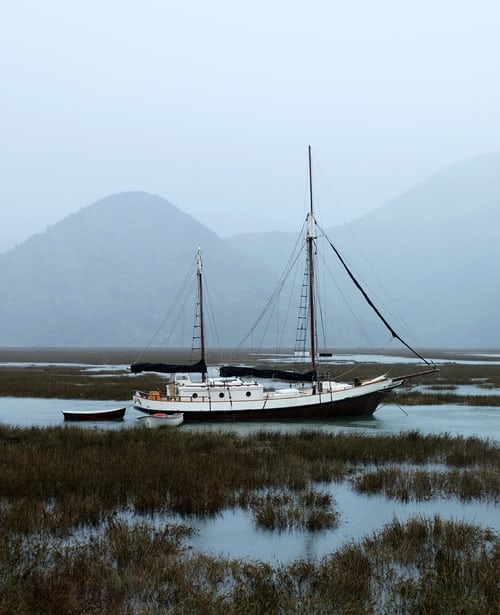yacht: (95, 155, 460, 429)
